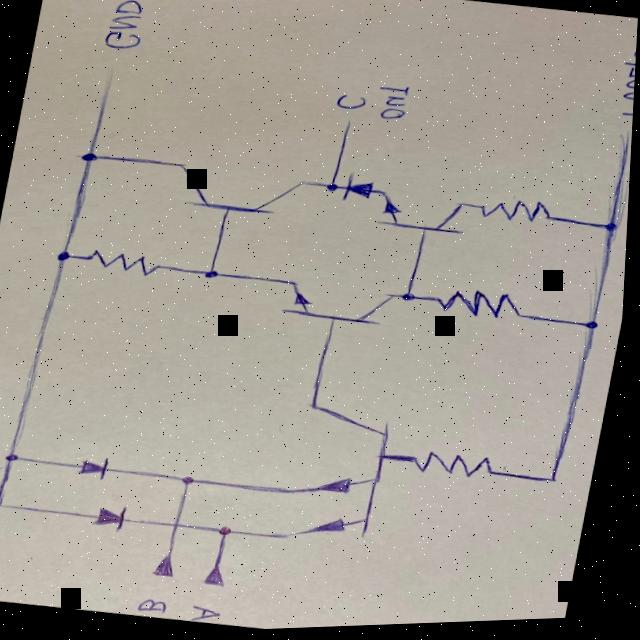crossover: (173, 520, 191, 533)
diode: (94, 501, 142, 540), (76, 452, 124, 487), (341, 171, 381, 208)
junction: (74, 146, 107, 170), (180, 472, 209, 495), (599, 222, 630, 243), (52, 245, 80, 268), (582, 321, 611, 341), (202, 265, 229, 286), (5, 446, 30, 468), (545, 476, 572, 494), (322, 179, 345, 200), (401, 292, 426, 310), (220, 524, 242, 542), (0, 497, 21, 515)
resistor: (430, 283, 537, 332), (411, 446, 507, 488), (85, 246, 173, 284), (476, 196, 564, 233)
terminal: (94, 60, 130, 103), (153, 547, 193, 584), (204, 560, 244, 595), (609, 133, 634, 162), (340, 118, 364, 143)
text: (99, 0, 156, 58), (373, 82, 420, 128), (615, 49, 637, 113), (330, 89, 372, 119), (140, 597, 180, 620), (194, 606, 235, 628), (618, 111, 635, 131)
transistor: (286, 393, 409, 553), (166, 153, 314, 232), (279, 273, 401, 339), (373, 183, 480, 248)
